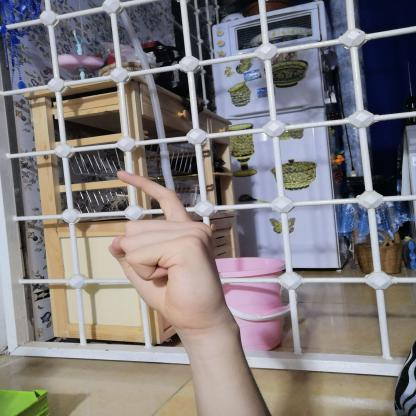RAA: (96, 162, 238, 333)
